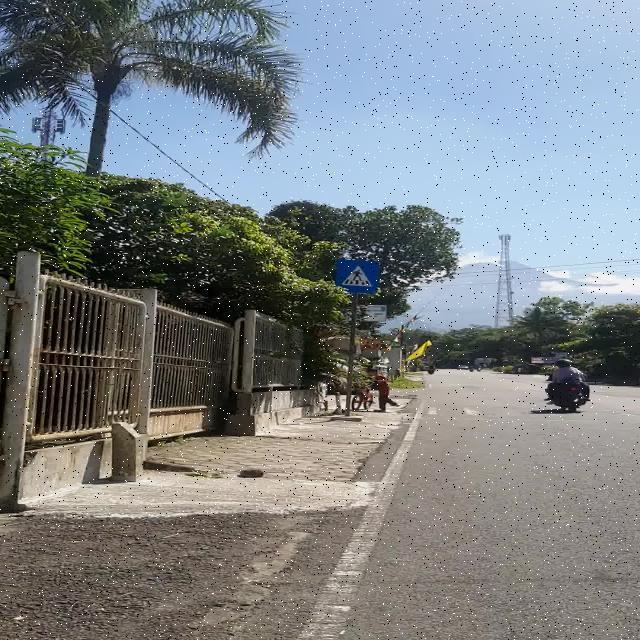Perintah Jalur Penyebrangan: (336, 259, 382, 294)
